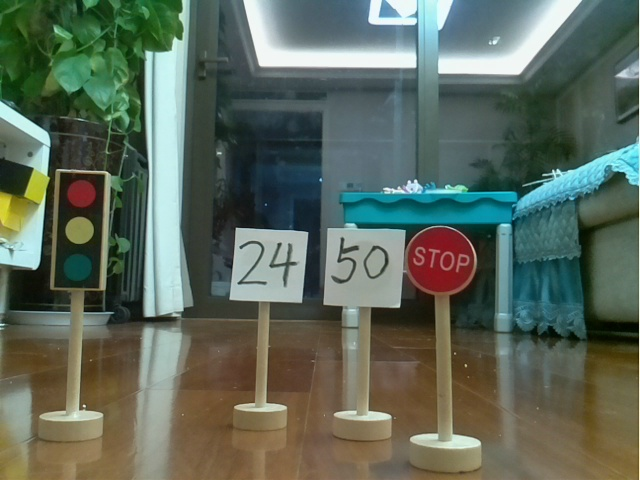Red Traffic Light: (39, 166, 113, 441)
Speed Limit 24: (224, 218, 311, 433)
Speed Limit 50: (320, 214, 404, 443)
Stop Sign: (404, 221, 489, 475)
